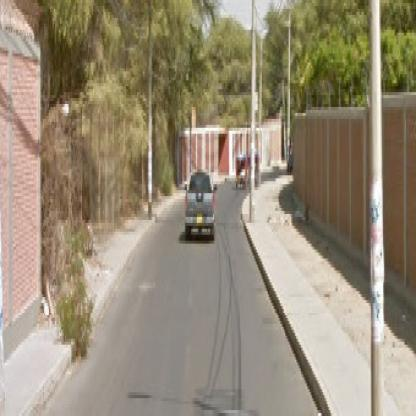Obstaculo: (55, 277, 96, 361)
Pista: (45, 164, 322, 414)
Vehiculo: (185, 173, 218, 239), (236, 158, 249, 191)
